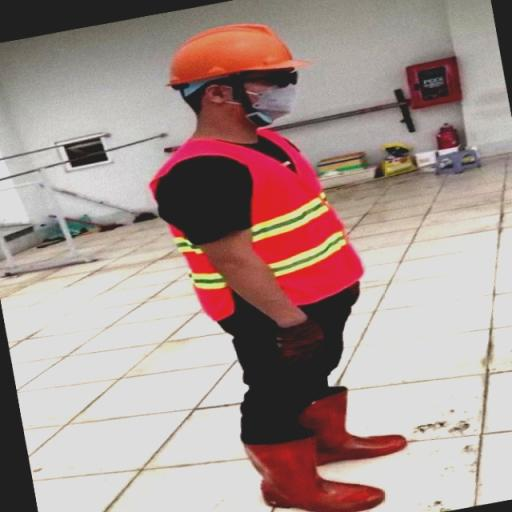Person: (130, 0, 438, 512)
boots: (246, 433, 382, 512), (302, 384, 407, 468)
gloves: (275, 316, 333, 380), (341, 273, 364, 306)
goggles: (234, 71, 296, 86)
helmet: (158, 22, 314, 80)
vest: (150, 122, 366, 326)
